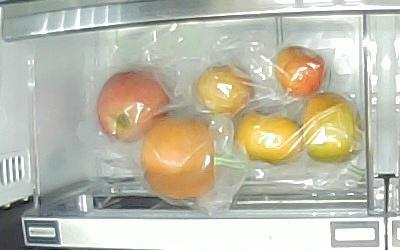apple_vinyl: (96, 70, 170, 144)
grapefruit_vinyl: (140, 117, 218, 200)
persimmon_vinyl: (303, 92, 361, 162), (236, 114, 304, 166)
prune_vinyl: (272, 46, 327, 100), (197, 64, 252, 116)
